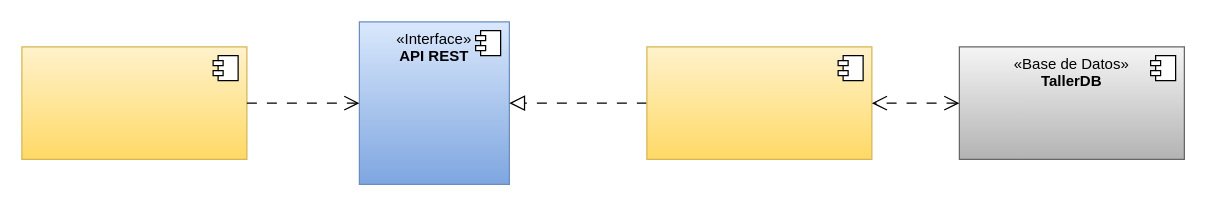
This 1206x206 diagram has some shape labels left out. The shapes that lost their labels are listed below. From the top down, each one's centre as x and y in pixels, then its label:
At (134,102): "«AplicacionWeb» TallerApp".
At (759,102): "«Web Services» MyAppServices".
